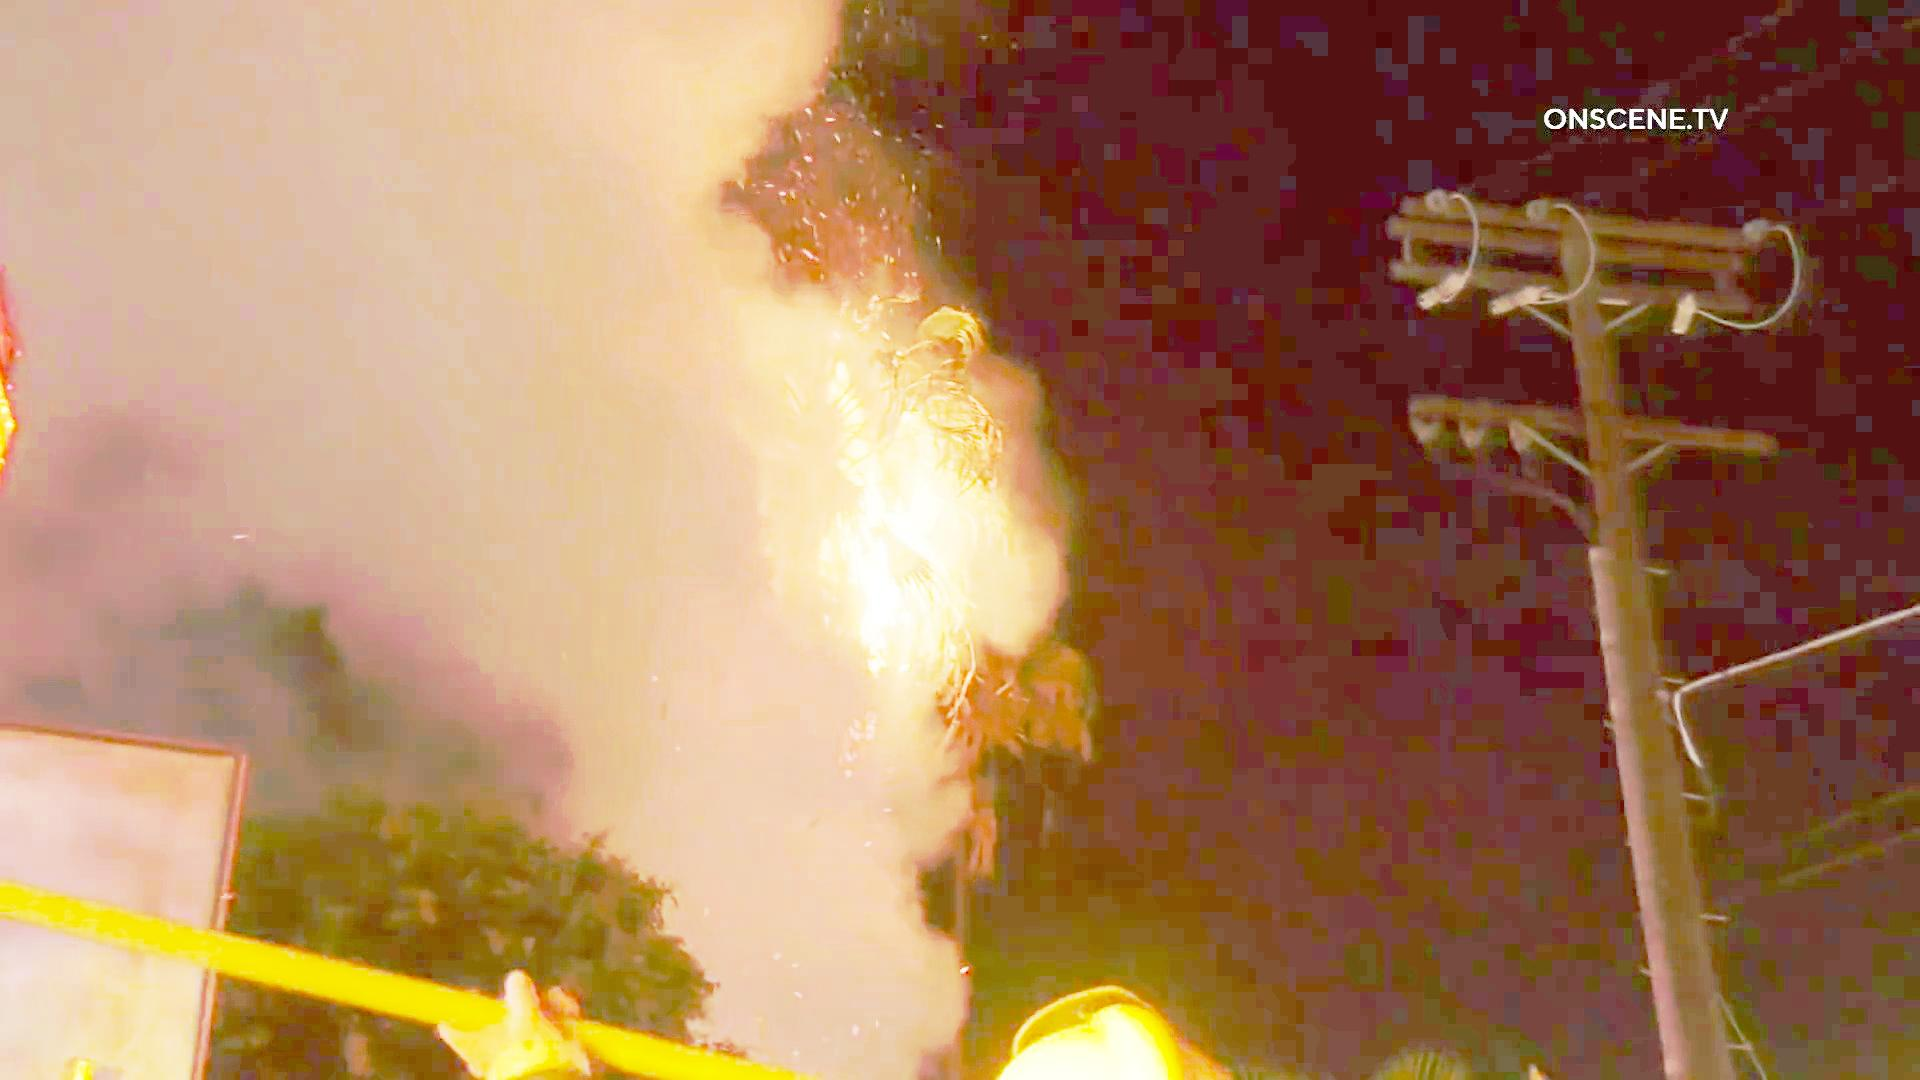fire: (815, 357, 981, 670)
smoke: (55, 25, 781, 518)
